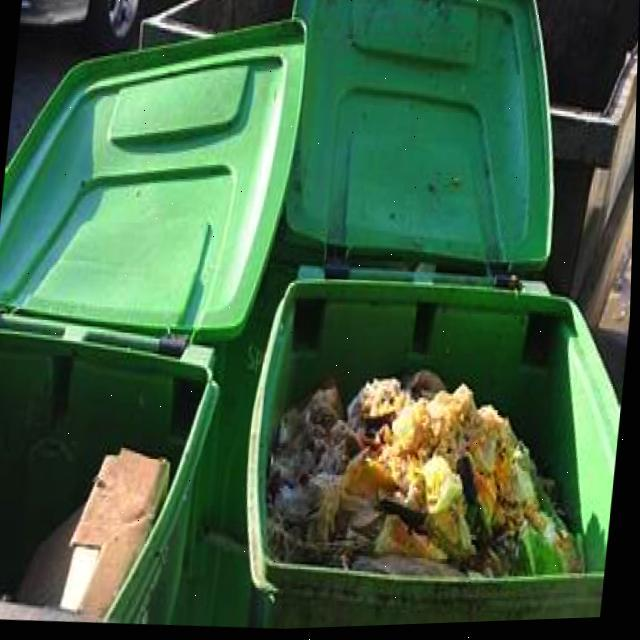Garbage: (270, 373, 587, 580)
